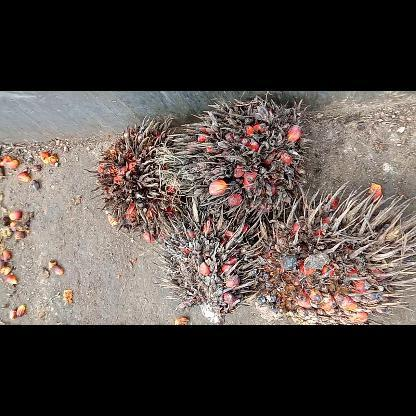Terlalu masak: (247, 176, 415, 324), (160, 93, 316, 222), (86, 112, 202, 244), (148, 204, 266, 324)
